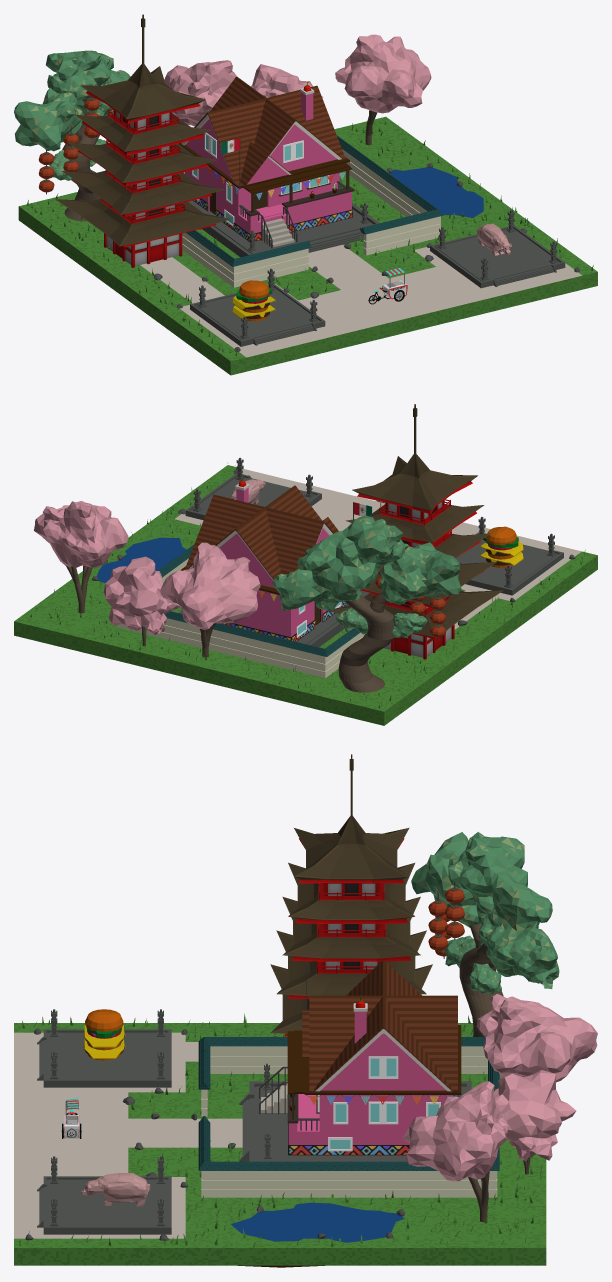
3 renders of one model, top to bottom at view 1: azimuth 30°, elevation 25°; view 2: azimuth 150°, elevation 25°; view 3: azimuth 270°, elevation 25°, orthographic. The views are drawn at different scales.
Parts seen in each view (by area): view 1: Cube.005, Cube.1005, OBJRANDOM_HAMBURGER, ANIMAL_HIPOPOTAMO, VEHICLES_SNOWBAL_BIKE; view 2: Cube.005, Cube.1005, OBJRANDOM_HAMBURGER; view 3: Cube.005, Cube.1005, OBJRANDOM_HAMBURGER, ANIMAL_HIPOPOTAMO.
Boxes of the visible parts, x1,y1,x2,y2 form: Cube.005: [14, 14, 597, 375]; Cube.1005: [179, 76, 354, 248]; OBJRANDOM_HAMBURGER: [232, 280, 275, 321]; ANIMAL_HIPOPOTAMO: [477, 223, 511, 255]; VEHICLES_SNOWBAL_BIKE: [368, 268, 407, 304]; Cube.005: [14, 404, 597, 725]; Cube.1005: [181, 476, 372, 641]; OBJRANDOM_HAMBURGER: [480, 526, 523, 567]; Cube.005: [14, 754, 597, 1265]; Cube.1005: [259, 960, 461, 1155]; OBJRANDOM_HAMBURGER: [83, 1009, 125, 1060]; ANIMAL_HIPOPOTAMO: [81, 1173, 150, 1206].
Bounding box in the file's own units: 4528 × 2756 × 4389.
79 materials, 7 textured.
